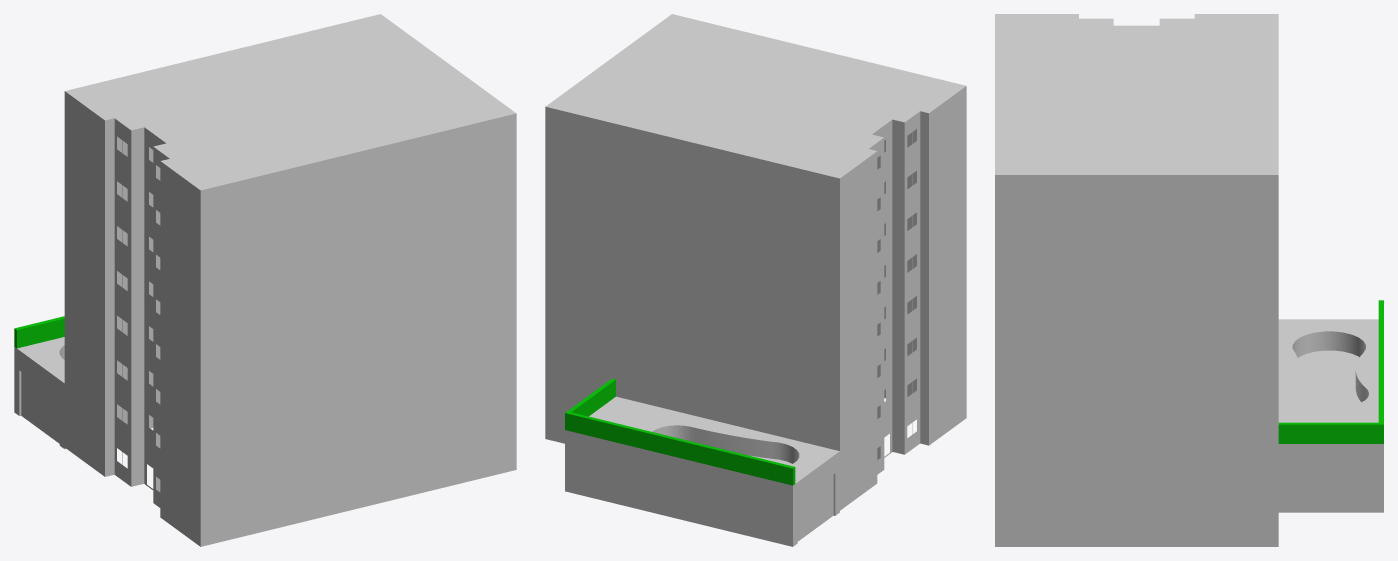
File: bs_hotel_02.glb
The picture shows the model from 3 angles, left to right: view 1: azimuth 30°, elevation 25°; view 2: azimuth 150°, elevation 25°; view 3: azimuth 270°, elevation 25°; orthographic projection. The views are drawn at different scales.
Visible parts, largest first — view 1: exterior_walls-col, exterior_garage_walls-col, pool_hedge; view 2: exterior_walls-col, exterior_garage_walls-col, pool_hedge; view 3: exterior_walls-col, exterior_garage_walls-col, pool_hedge.
Boxes of the visible parts, <box> form: exterior_walls-col: <box>64,14,516,546</box>; exterior_garage_walls-col: <box>14,337,153,449</box>; pool_hedge: <box>14,316,64,348</box>; exterior_walls-col: <box>545,14,966,510</box>; exterior_garage_walls-col: <box>565,396,839,546</box>; pool_hedge: <box>565,378,795,485</box>; exterior_walls-col: <box>995,14,1278,546</box>; exterior_garage_walls-col: <box>1278,319,1383,512</box>; pool_hedge: <box>1278,300,1383,443</box>.
Size of the model in its own units: 36.17 by 39.2 by 36.94.
